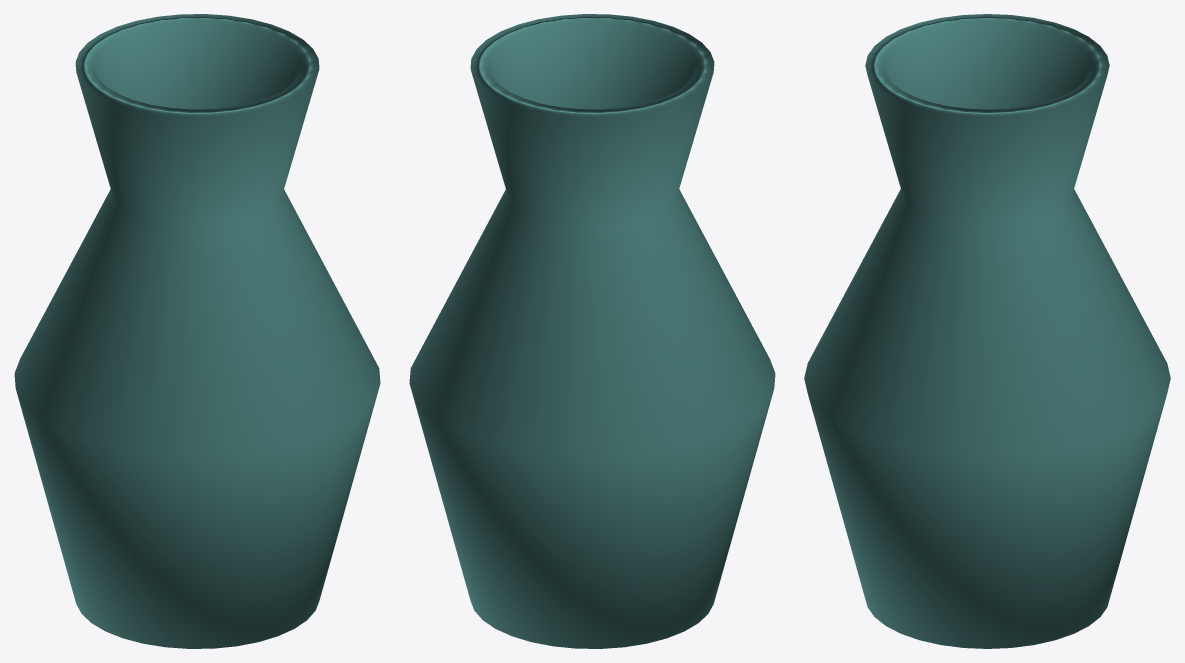
The model's file is wp-vase-d-atelier.glb.
3 views of the same model, side by side, from view 1: azimuth 30°, elevation 25°; view 2: azimuth 150°, elevation 25°; view 3: azimuth 270°, elevation 25° (orthographic).
Visible parts, largest first — view 1: wp-vase-d-atelier; view 2: wp-vase-d-atelier; view 3: wp-vase-d-atelier.
Part boxes in pixels (<box>): wp-vase-d-atelier: <box>14,14,380,648</box>; wp-vase-d-atelier: <box>409,14,775,648</box>; wp-vase-d-atelier: <box>804,14,1170,648</box>.
Size of the model in its own units: 0.25 by 0.4 by 0.25.
